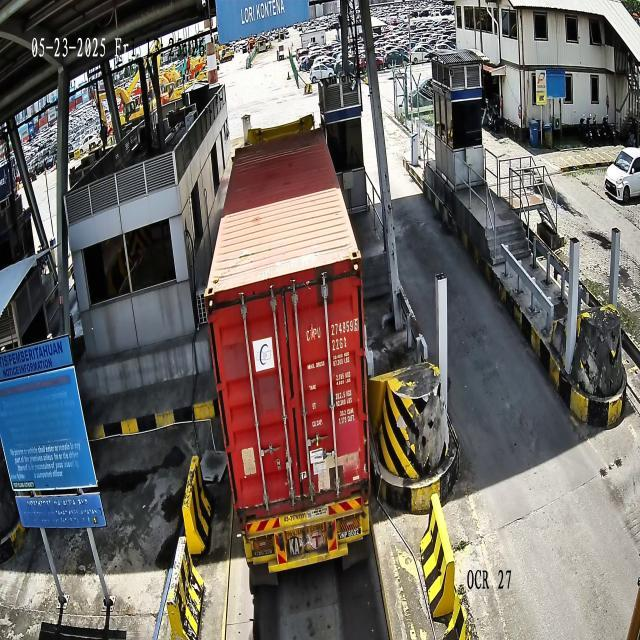ISO: (333, 336, 346, 352)
container_number: (306, 318, 359, 344)
